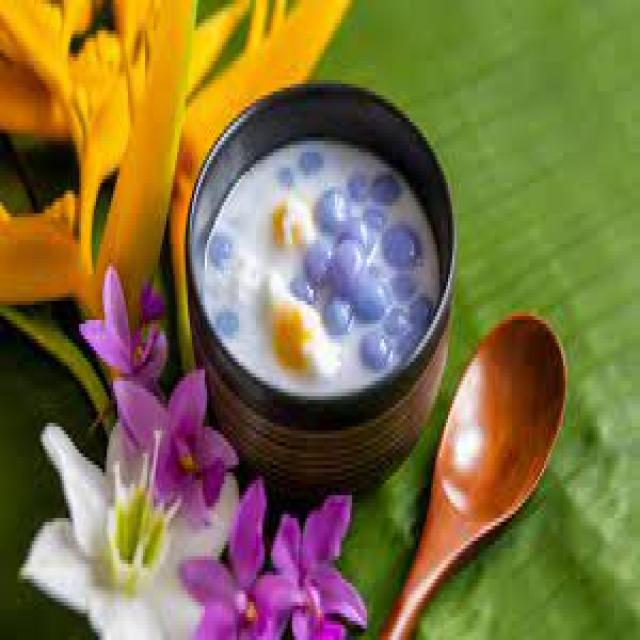Bualoy: (176, 80, 464, 488)
